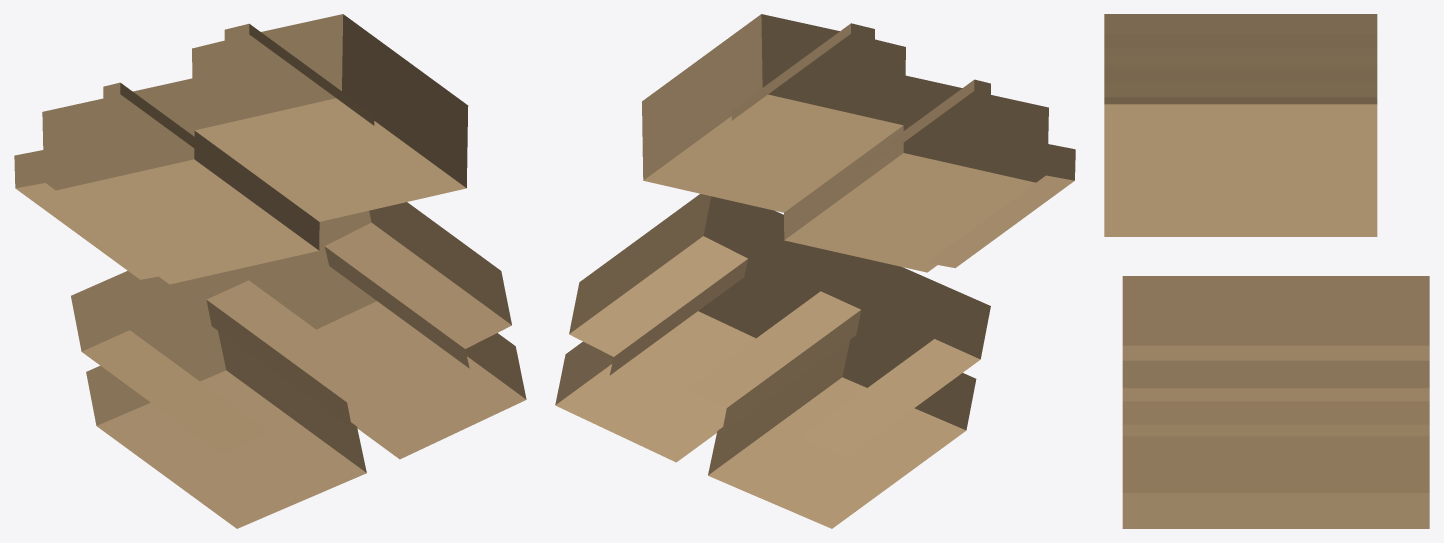
The picture shows the model from 3 angles, left to right: view 1: azimuth 30°, elevation 25°; view 2: azimuth 150°, elevation 25°; view 3: azimuth 270°, elevation 25°; orthographic projection. The views are drawn at different scales.
Parts seen in each view (by area): view 1: 0_0_1_3_2_2_2_1_3; view 2: 0_0_1_3_2_2_2_1_3; view 3: 0_0_1_3_2_2_2_1_3.
Boxes of the visible parts, <box> form: 0_0_1_3_2_2_2_1_3: <box>14,14,526,528</box>; 0_0_1_3_2_2_2_1_3: <box>555,14,1075,528</box>; 0_0_1_3_2_2_2_1_3: <box>1104,14,1429,528</box>.
Bounding box in the file's own units: 43.85 × 41.15 × 28.6.
